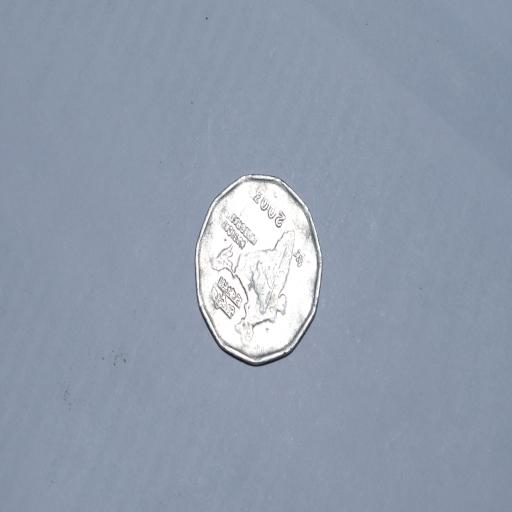rupee2: (192, 174, 323, 366)
